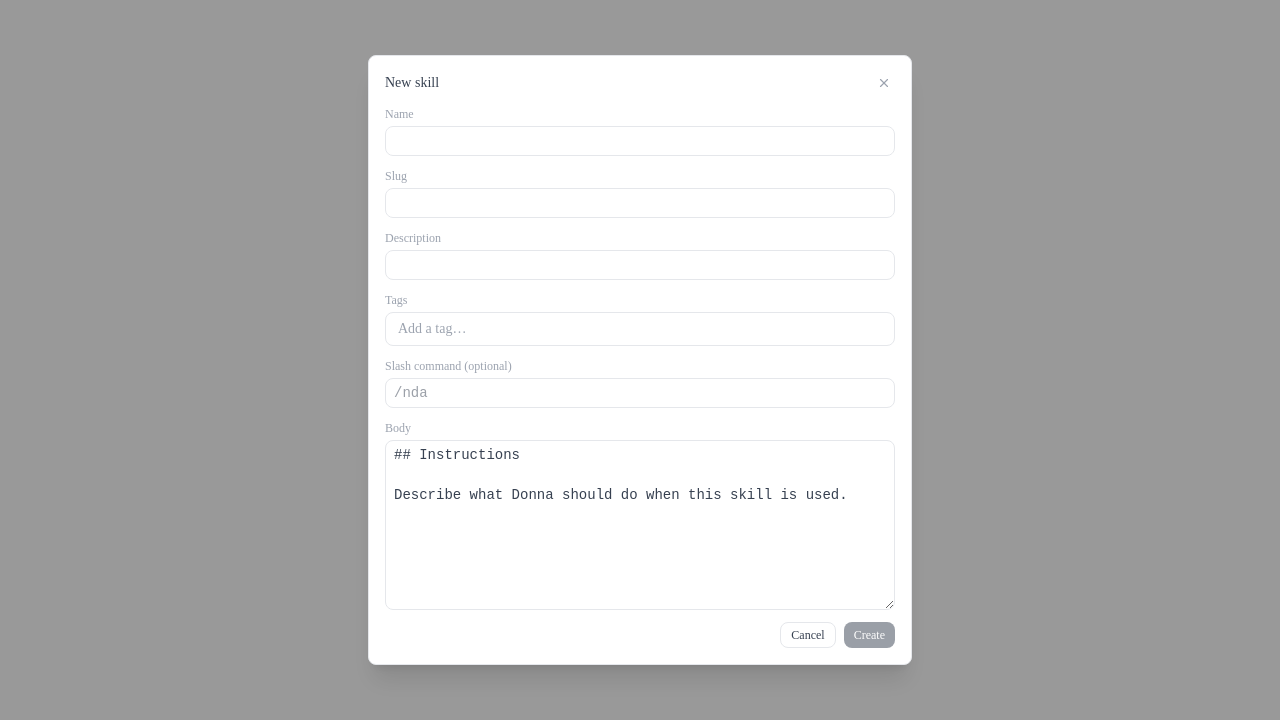
Scenario: CreateSkillModal › seeds a non-empty body and disables Create until name + description + body present
Check: the button "Create" is disabled, box x1=844 y1=622 x2=895 y2=648
In the field labelled "Name": {"x": 640, "y": 141} x1=385 y1=126 x2=895 y2=156, type "NDA"
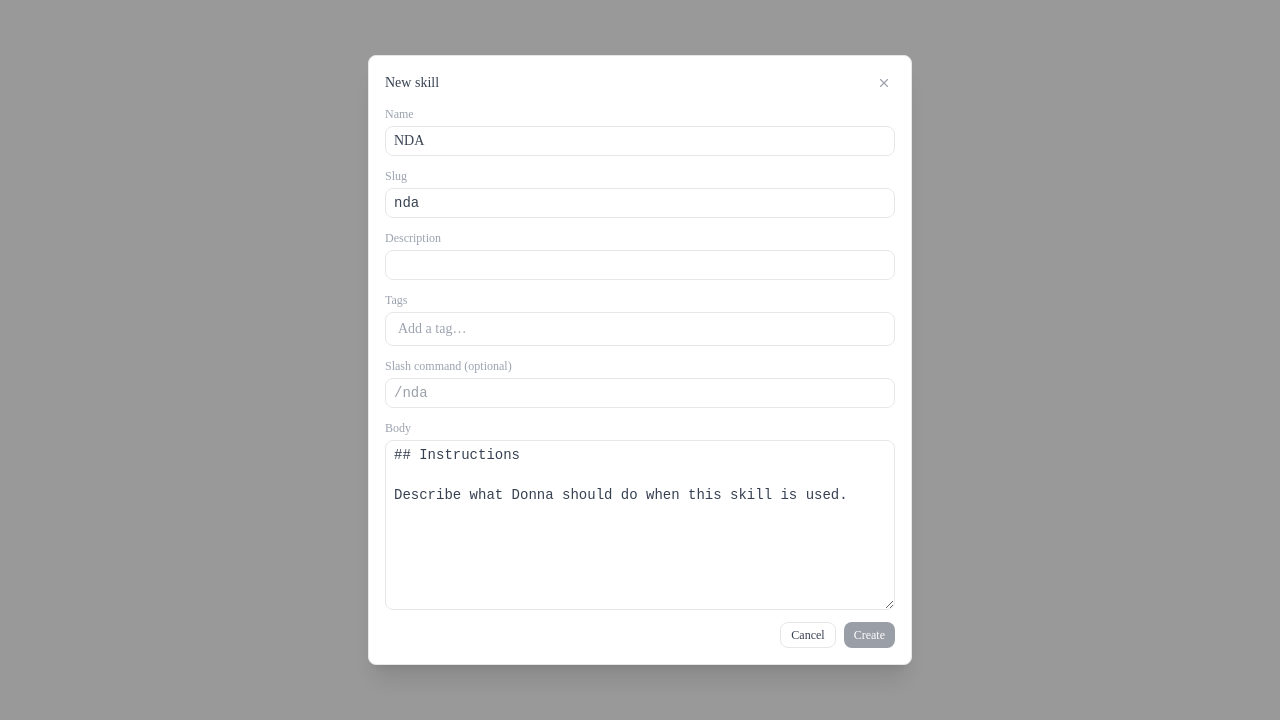
Check: the button "Create" is disabled, box x1=844 y1=622 x2=895 y2=648
In the field labelled "Description": {"x": 640, "y": 265} x1=385 y1=250 x2=895 y2=280, type "Reviews NDAs"
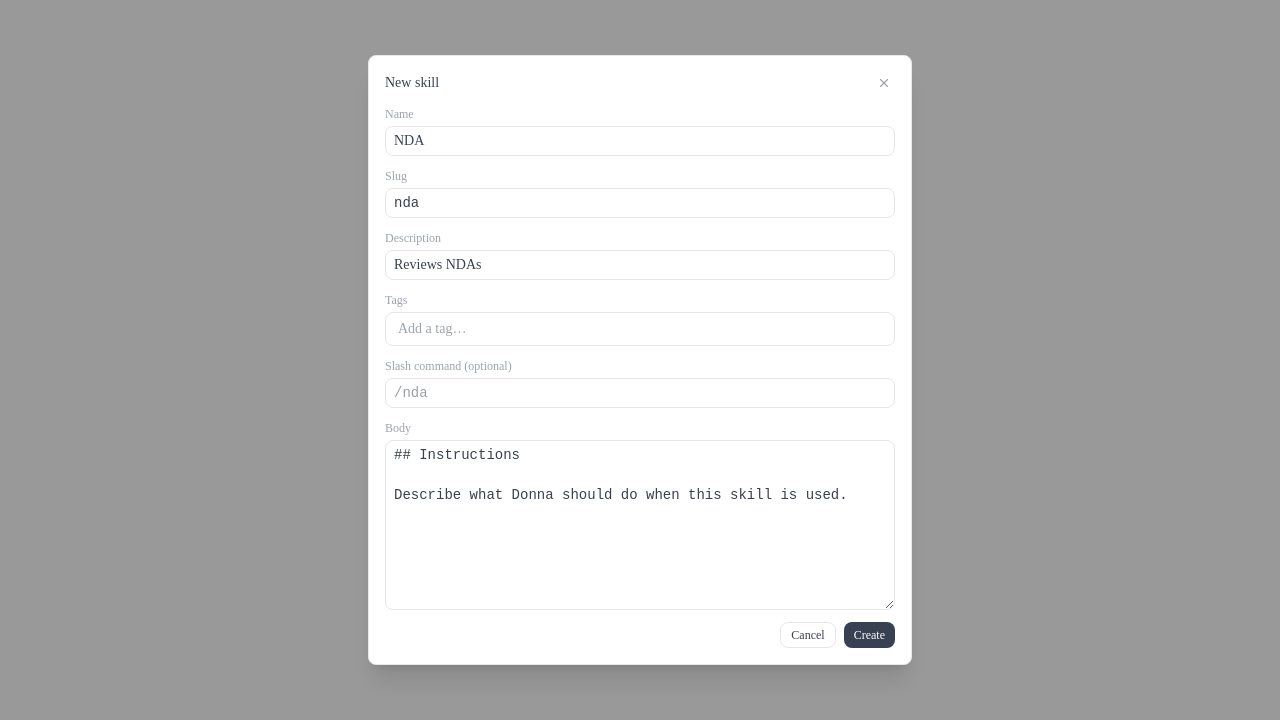
Check: the button "Create" is enabled, box x1=844 y1=622 x2=895 y2=648
